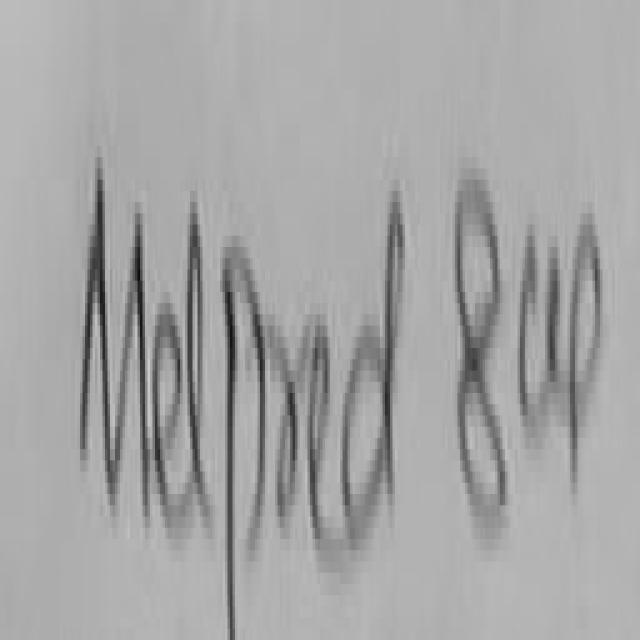8: (455, 180, 508, 529)
M: (80, 168, 150, 511)
d: (345, 201, 404, 533)
e: (153, 303, 188, 565), (305, 326, 342, 550)
l: (180, 202, 210, 526)
p: (228, 247, 268, 634), (572, 225, 603, 477)
r: (270, 314, 310, 522)
u: (517, 225, 571, 449)
